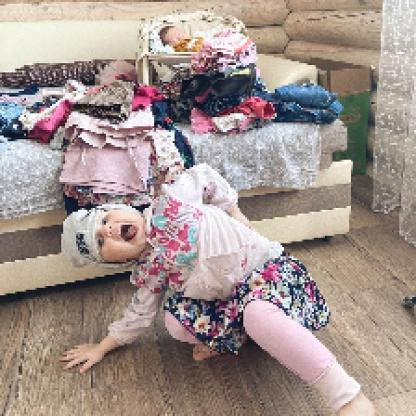child: (57, 163, 377, 416), (162, 26, 235, 54)
